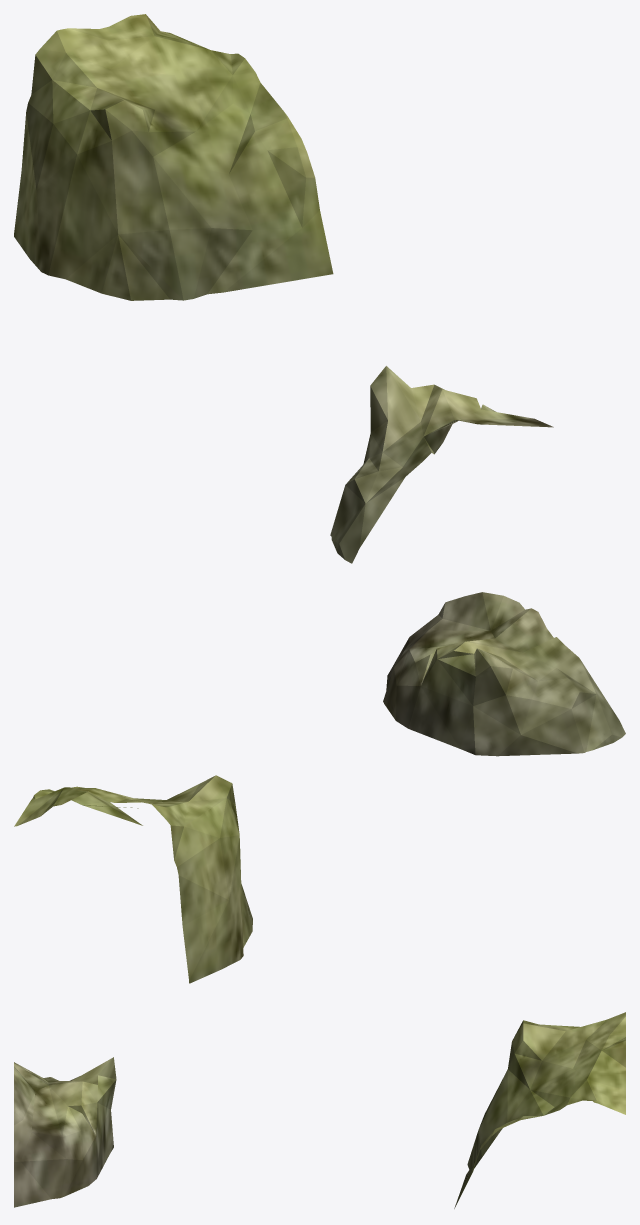
3 renders of one model, top to bottom at view 1: azimuth 30°, elevation 25°; view 2: azimuth 150°, elevation 25°; view 3: azimuth 270°, elevation 25°, orthographic. The views are drawn at different scales.
Bounding box in the file's own units: 1.15 × 0.758 × 2.95.
1 material, 1 textured.
